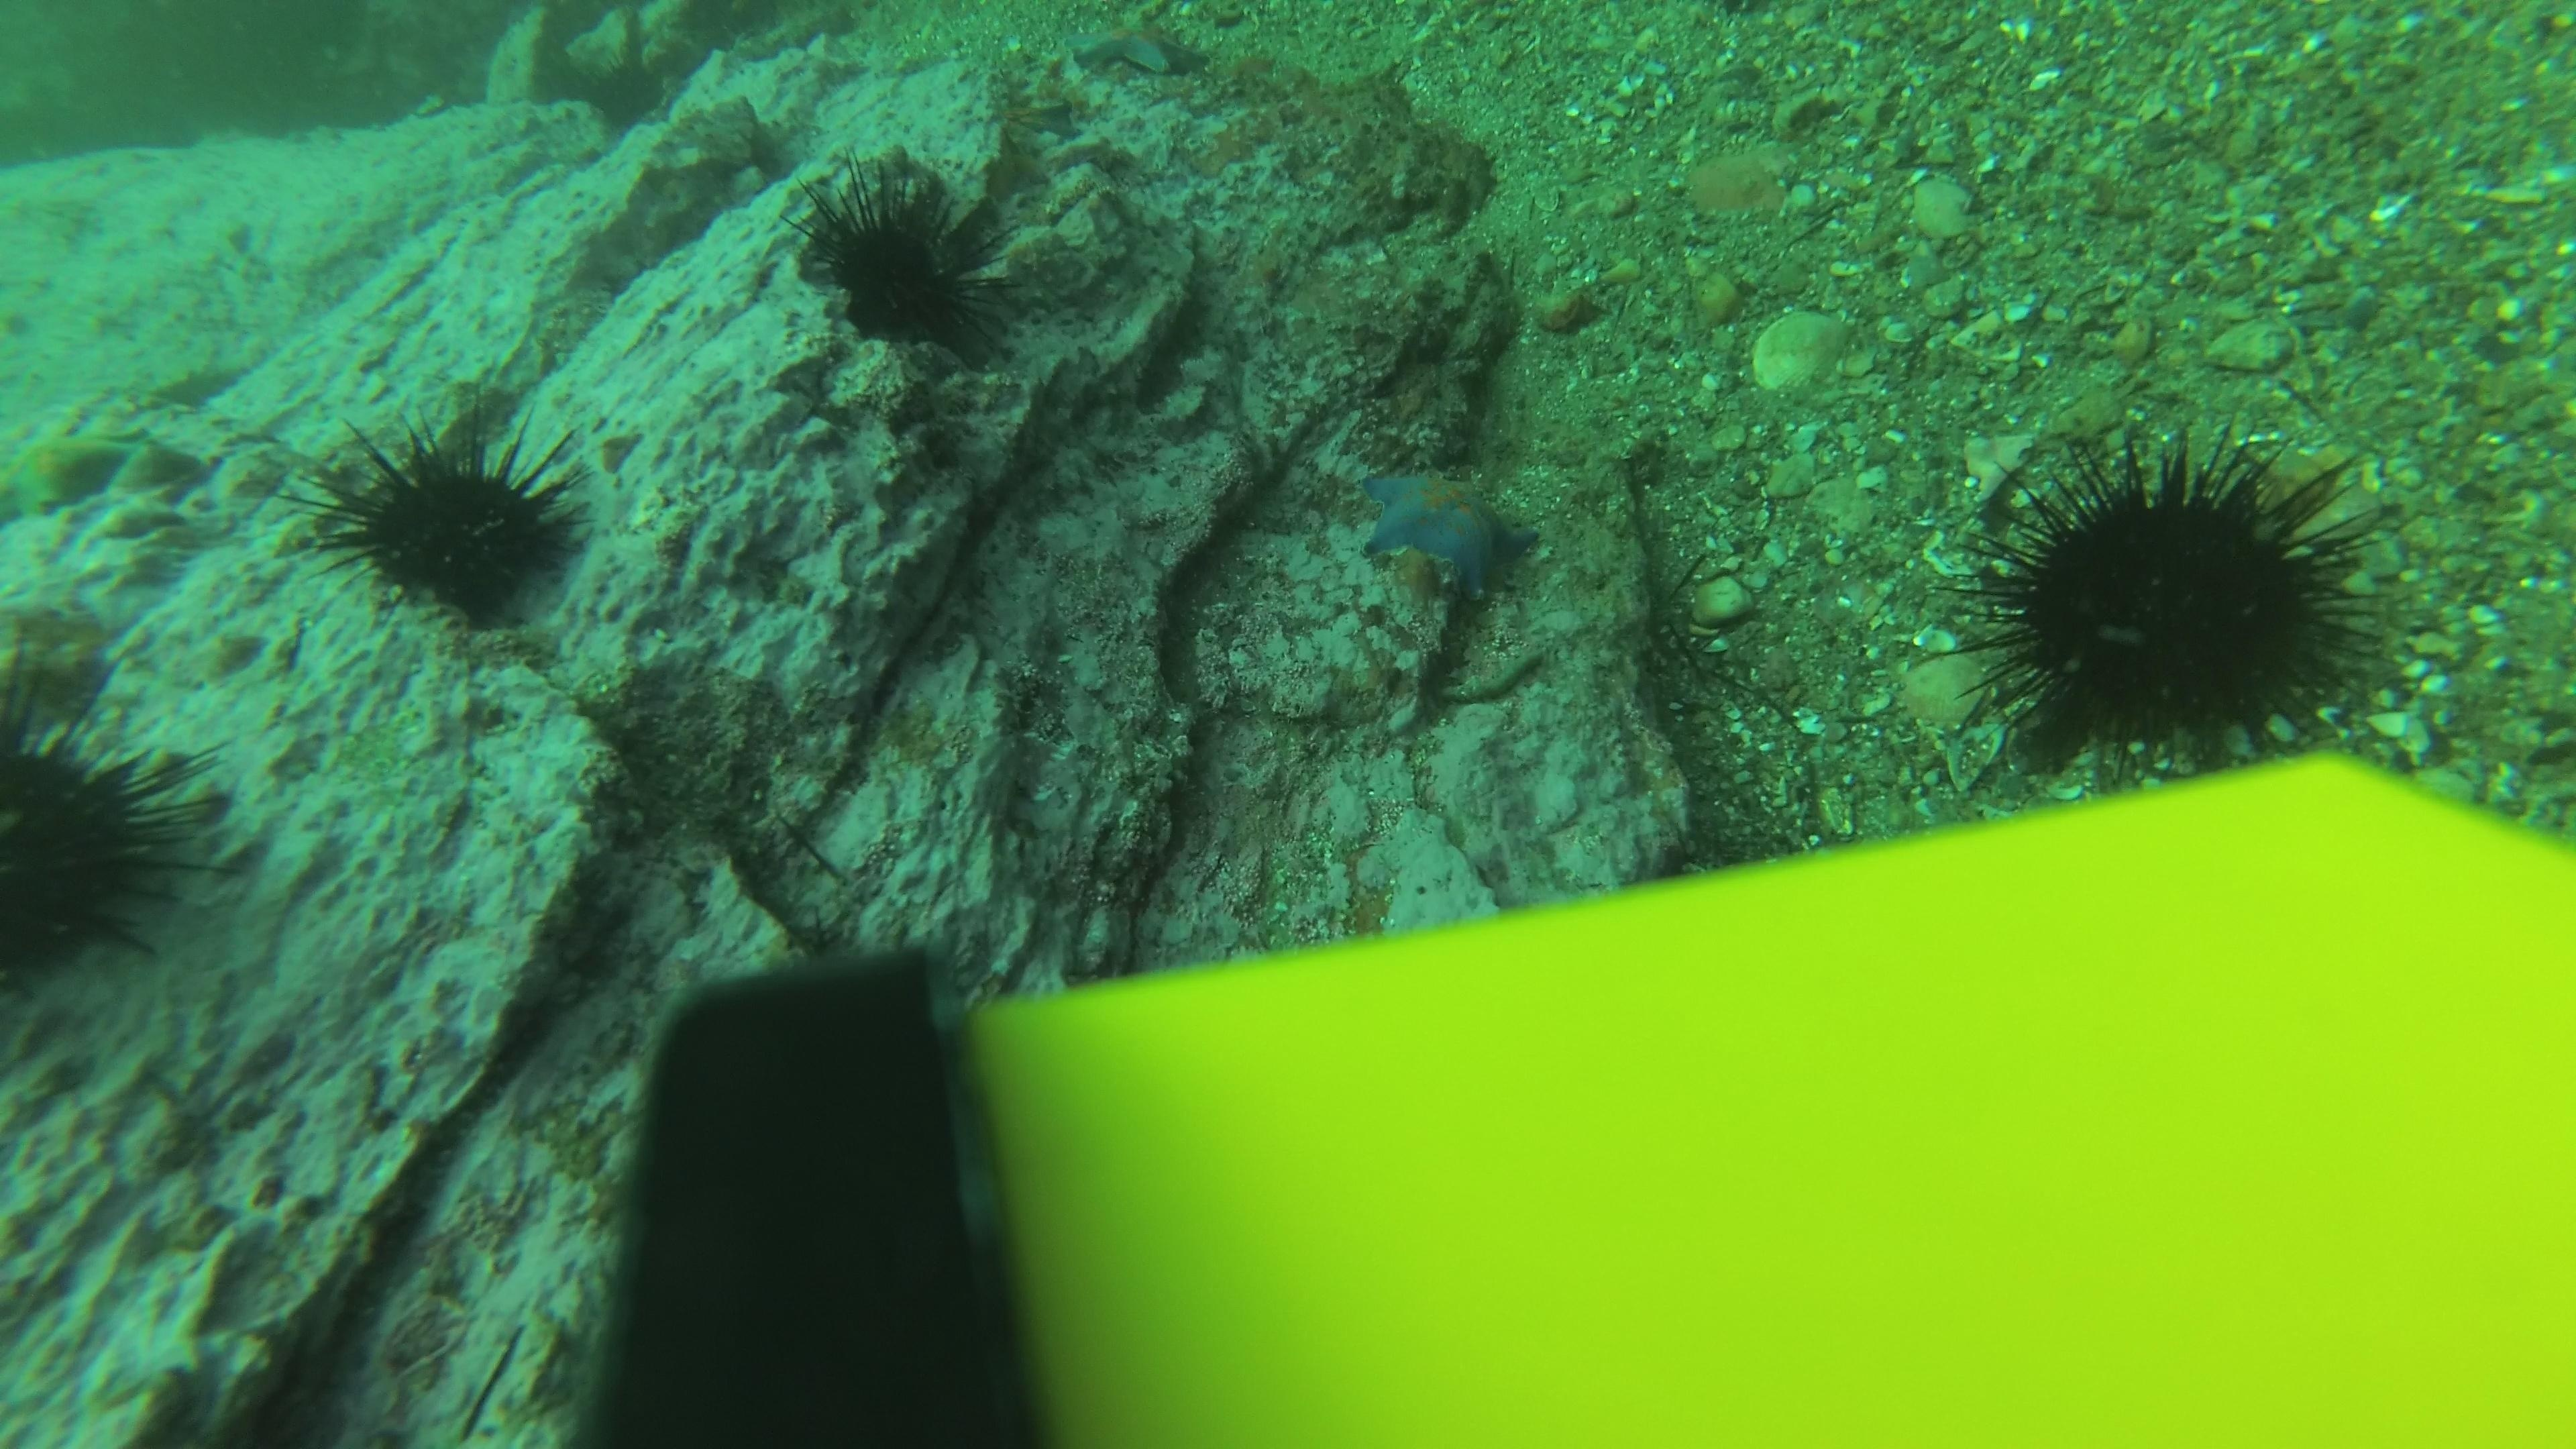echinus: (1951, 423, 2397, 764), (0, 662, 225, 994), (295, 391, 596, 628), (791, 152, 1017, 359)
starfish: (1350, 458, 1545, 596), (1063, 12, 1214, 81)
